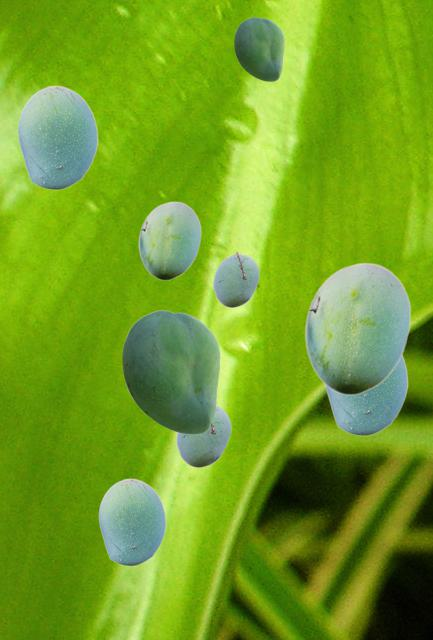green_mango: (304, 262, 410, 394), (122, 310, 219, 433), (17, 85, 97, 189), (324, 355, 407, 435), (98, 478, 165, 565), (138, 201, 200, 279), (176, 405, 230, 466), (234, 17, 283, 80), (213, 251, 258, 306)
